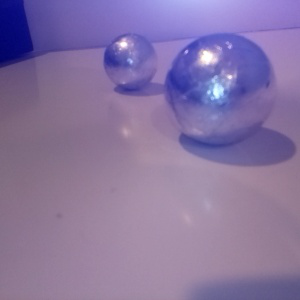alive_ball: (165, 34, 277, 147), (104, 34, 159, 90)
